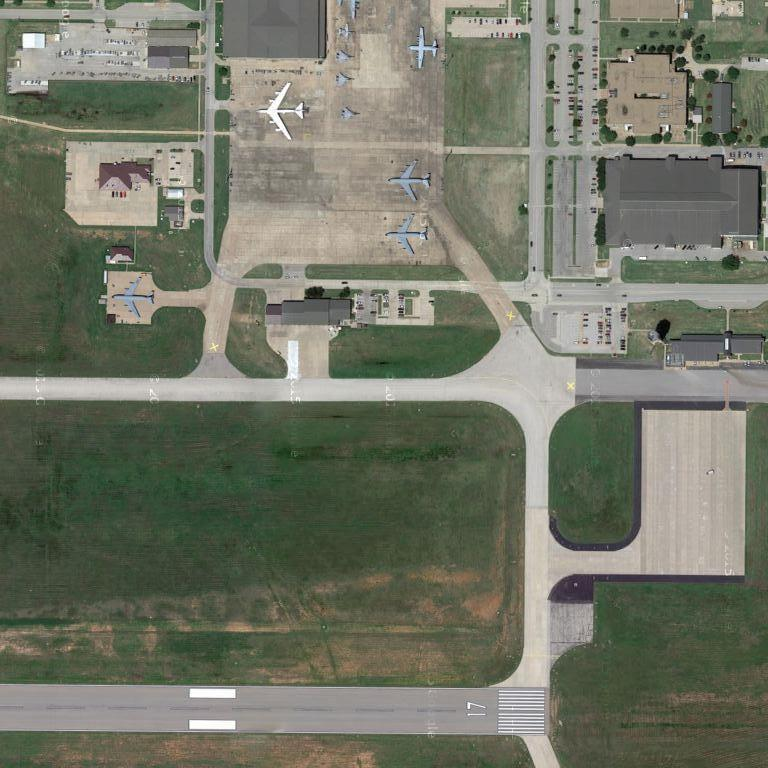B-52: (254, 80, 312, 141)
C-130: (407, 23, 441, 74)
KC-135: (108, 273, 156, 322), (383, 211, 432, 257), (384, 159, 434, 202)
